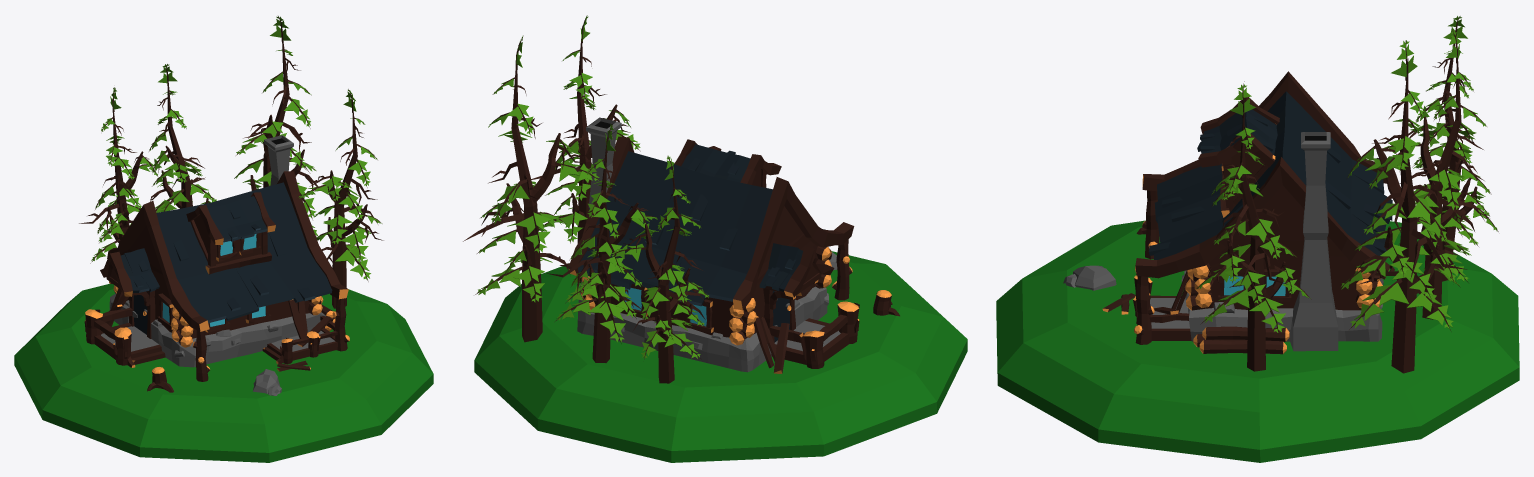
3 views of the same model, side by side, from view 1: azimuth 30°, elevation 25°; view 2: azimuth 150°, elevation 25°; view 3: azimuth 270°, elevation 25° (orthographic). The views are drawn at different scales.
Parts seen in each view (by area): view 1: group1463622282, group1959508968, group452503139, group111155014, group1801783179, group551173013, group219459434, group1958003972, group182768936, group374118918, group288122642, group834835194 (+14 smaller); view 2: group1463622282, group1959508968, group111155014, group219459434, group551173013, group452503139, group2091678014, group1958003972, group834835194, group1383119677, group374118918, group288122642 (+10 smaller); view 3: group1463622282, group111155014, group1959508968, group452503139, group1383119677, group219459434, group708783982, group182768936, group551173013, group2091678014, group1958003972, group374118918 (+10 smaller).
Part boxes in pixels (x1,y1,x2,y2): group1463622282: [14, 283, 433, 462]; group1959508968: [156, 182, 332, 323]; group452503139: [297, 89, 383, 308]; group111155014: [234, 16, 318, 240]; group1801783179: [151, 313, 319, 367]; group551173013: [79, 87, 157, 263]; group219459434: [149, 64, 216, 212]; group1958003972: [107, 201, 209, 331]; group182768936: [277, 171, 348, 299]; group374118918: [208, 196, 267, 242]; group288122642: [121, 248, 159, 292]; group834835194: [126, 225, 174, 332]; group1463622282: [474, 251, 967, 462]; group1959508968: [578, 151, 825, 306]; group111155014: [463, 35, 599, 342]; group219459434: [546, 123, 657, 362]; group551173013: [608, 155, 709, 383]; group452503139: [531, 15, 640, 282]; group2091678014: [577, 310, 771, 372]; group1958003972: [733, 177, 854, 310]; group834835194: [746, 206, 817, 338]; group1383119677: [578, 117, 621, 302]; group374118918: [681, 144, 750, 182]; group288122642: [759, 243, 803, 291]; group1463622282: [996, 220, 1519, 462]; group111155014: [1338, 40, 1467, 373]; group1959508968: [1154, 91, 1392, 259]; group452503139: [1196, 81, 1311, 371]; group1383119677: [1290, 132, 1338, 351]; group219459434: [1383, 29, 1489, 319]; group708783982: [1209, 185, 1360, 310]; group182768936: [1135, 157, 1389, 279]; group551173013: [1399, 16, 1498, 281]; group2091678014: [1189, 278, 1383, 341]; group1958003972: [1142, 71, 1386, 191]; group374118918: [1197, 109, 1277, 154].
Bounding box in the file's own units: 5 × 3.85 × 4.77.
